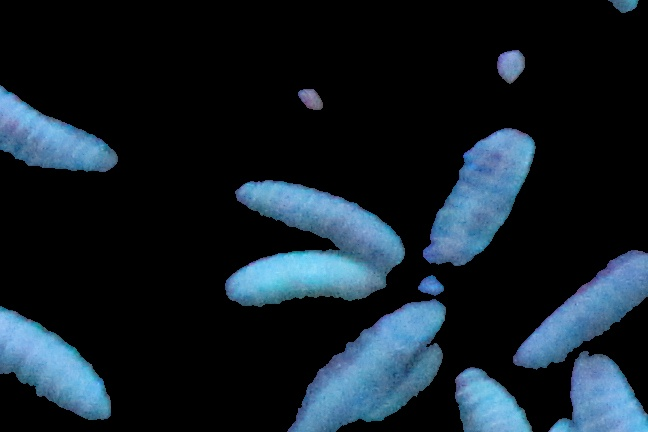larvae: (288, 300, 445, 432), (421, 126, 536, 270), (513, 248, 648, 370), (239, 182, 407, 276), (1, 302, 113, 422), (1, 80, 119, 174), (225, 253, 388, 314), (566, 351, 648, 432), (362, 345, 444, 422), (455, 368, 534, 432)
